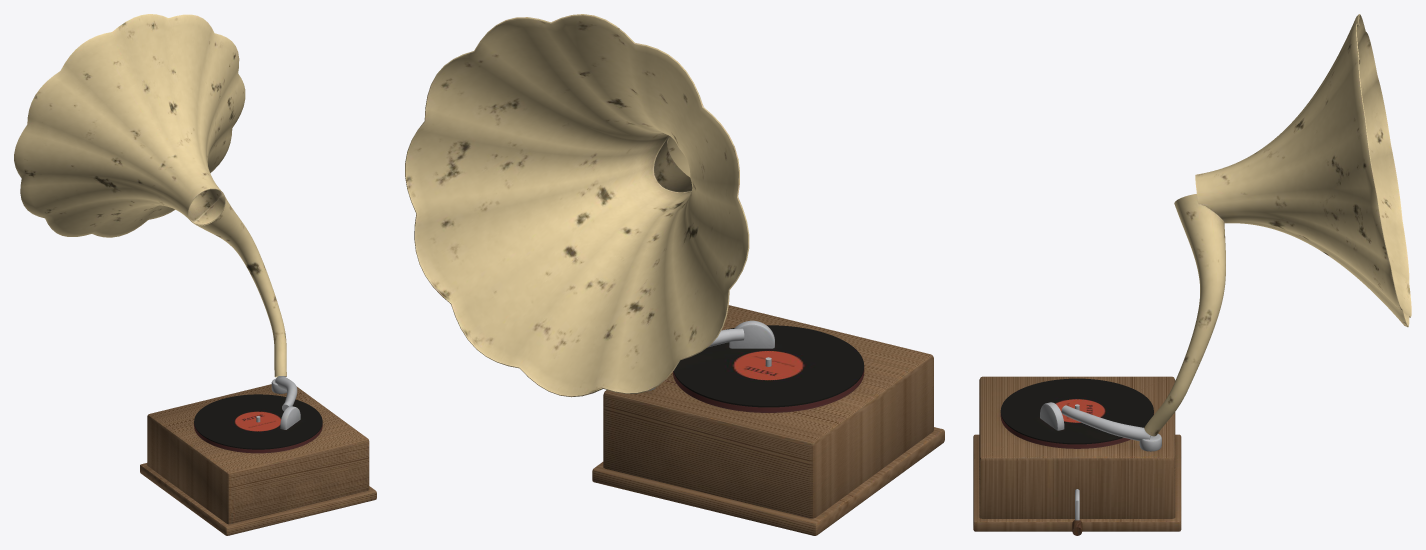
File: gramophone.glb
3 renders of one model, left to right at view 1: azimuth 30°, elevation 25°; view 2: azimuth 150°, elevation 25°; view 3: azimuth 270°, elevation 25°, orthographic. The views are drawn at different scales.
Parts seen in each view (by area): view 1: gramophone; view 2: gramophone; view 3: gramophone.
Boxes of the visible parts, left/top/right/bottom form: gramophone: left=14, top=14, right=376, bottom=535; gramophone: left=405, top=14, right=944, bottom=535; gramophone: left=973, top=14, right=1411, bottom=535.
Size of the model in its own units: 0.5199 by 0.829 by 0.7161.
Materials: 1 (1 with a texture image).
